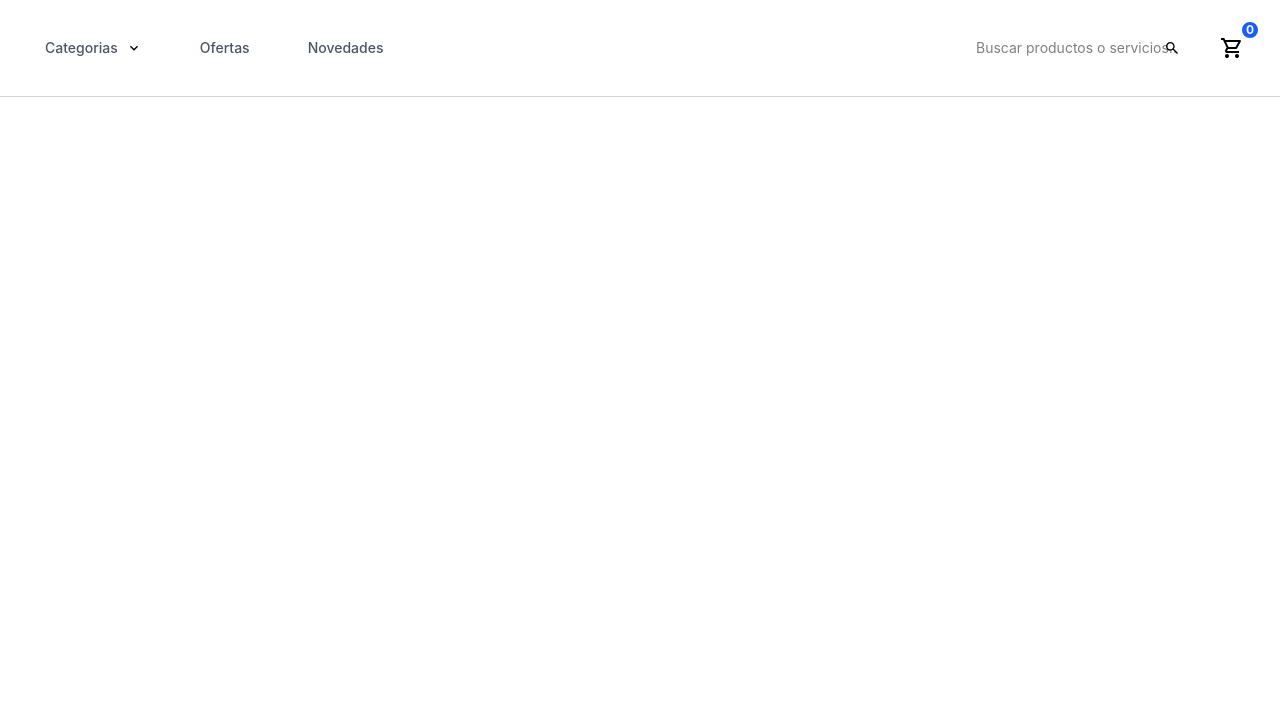
Test: Componente Header › abre y cierra el carrito cuando se hace clic en el botón del carrito
What coordinates should you click on to do the following:
click the button named "carrito de compras con 0 artículos"
I would click on:
 (1232, 48)
Its box is x1=1208 y1=24 x2=1256 y2=72.
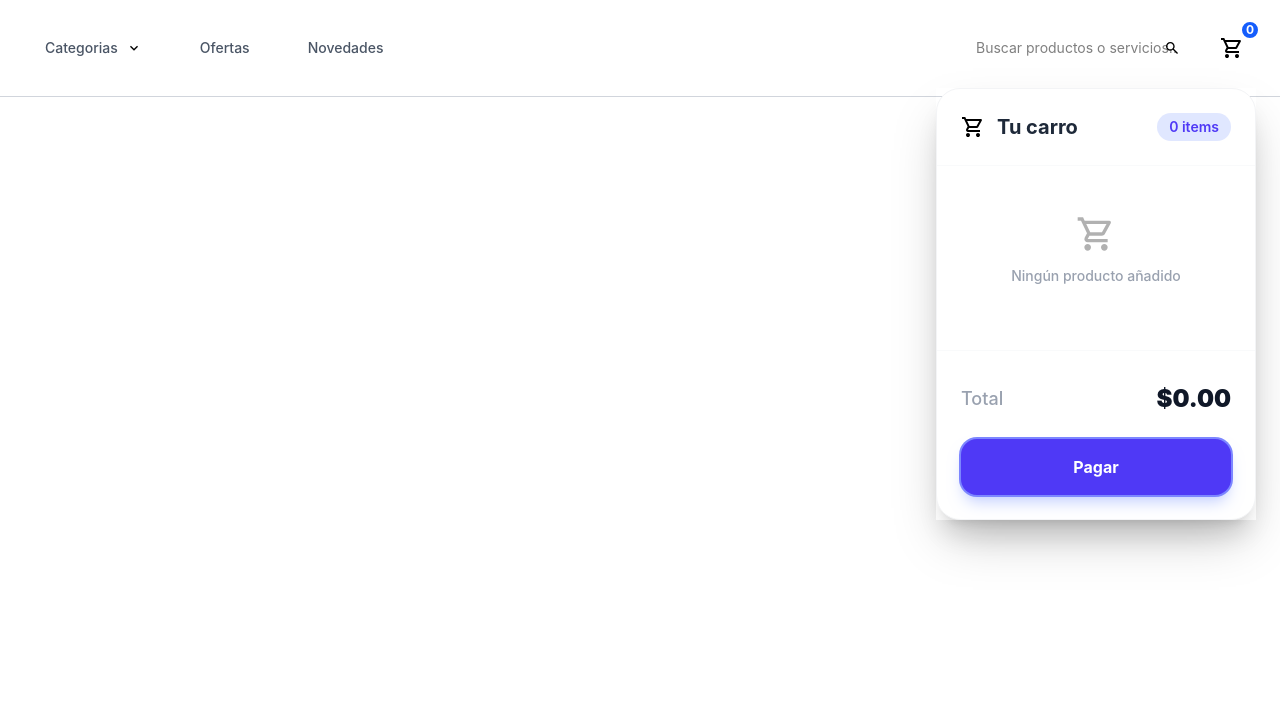
Check: the heading "Tu carro" is shown, box x1=997 y1=113 x2=1078 y2=141
